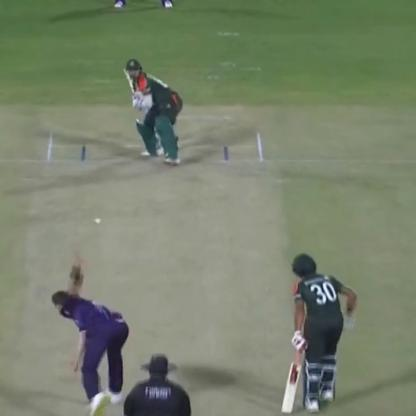ball: (91, 214, 106, 226)
bat: (283, 336, 305, 416), (116, 54, 142, 102)
pitch: (4, 121, 307, 416)
